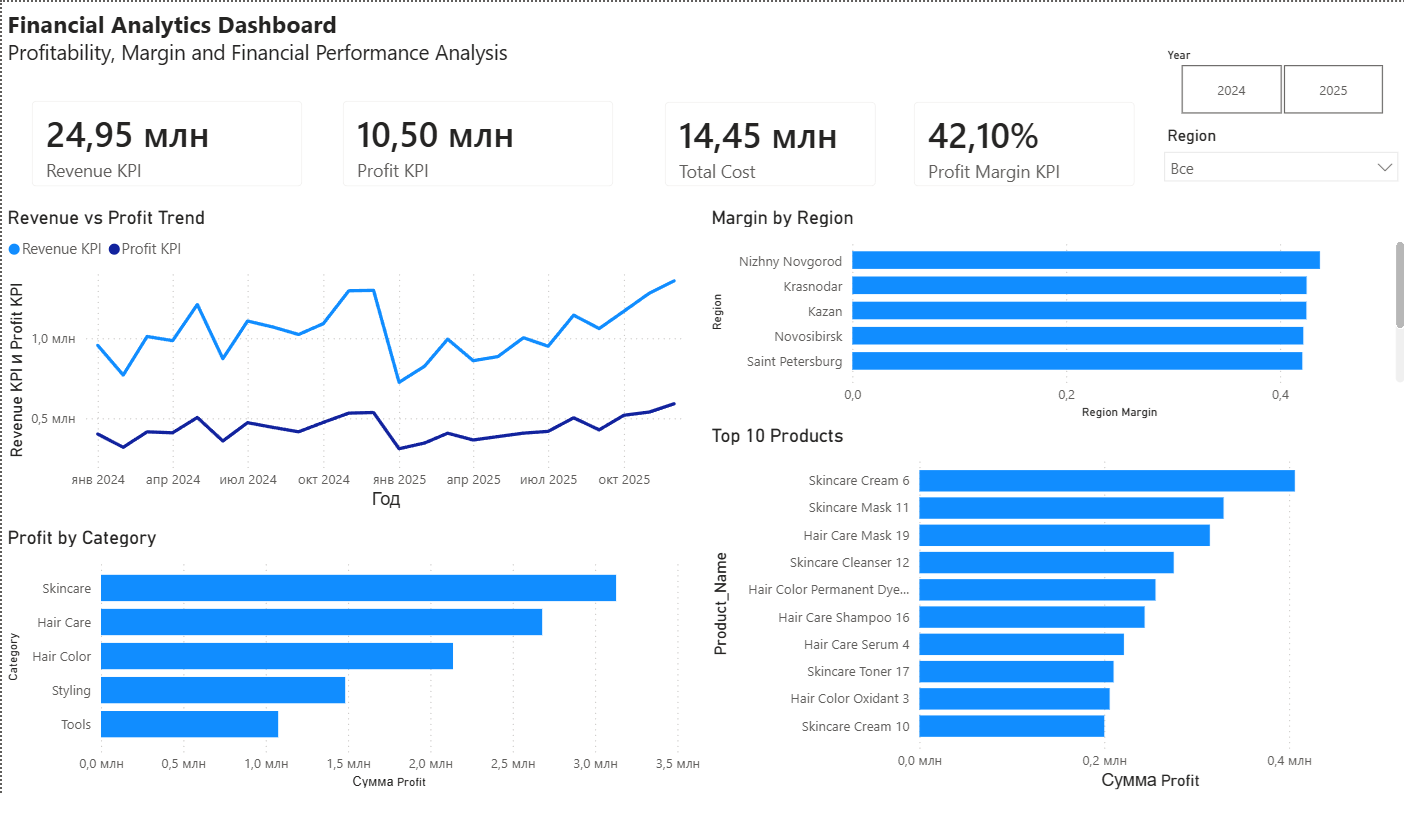

This screenshot's page, from the dashboard's own definition file:
{"tool":"powerbi","page":{"name":"Financial Analytics","canvas":[1280,720],"ordinal":2},"visuals":[{"type":"textbox","box":[10,0,280,280],"z":0},{"type":"textbox","box":[0,0,585.7,72.9],"z":1000},{"type":"cardVisual","fields":{"Data":["Sales.Revenue KPI"]},"box":[10,72.9,280,112.9],"z":2000},{"type":"cardVisual","fields":{"Data":["Sales.Profit KPI"]},"box":[292.9,72.9,280,112.9],"z":3000},{"type":"cardVisual","fields":{"Data":["Calendar.Total Cost"]},"box":[585,73.3,226.7,111.7],"z":4000},{"type":"cardVisual","fields":{"Data":["Sales.Profit Margin KPI"]},"box":[811.7,73.3,235,111.7],"z":5000},{"type":"lineChart","title":"Revenue vs Profit Trend","fields":{"Y":["Sales.Revenue KPI","Sales.Profit KPI"],"Category":["Calendar.Year_Month.Изменение.Иерархия дат.Год","Calendar.Year_Month.Изменение.Иерархия дат.Квартал","Calendar.Year_Month.Изменение.Иерархия дат.Месяц","Calendar.Year_Month.Изменение.Иерархия дат.День"]},"box":[0,185,640,280],"z":6000},{"type":"barChart","title":"Profit by Category","fields":{"Category":["Products.Category"],"Y":["Sum(Sales.Profit)"]},"box":[0,476.7,640,243.3],"z":7000},{"type":"barChart","title":"Margin by Region","fields":{"Category":["Sales.Region"],"Y":["Calendar.Region Margin"]},"box":[640,185,640,198.3],"z":8000},{"type":"barChart","title":"Top 10 Products","fields":{"Category":["Products.Product_Name"],"Y":["Sum(Sales.Profit)"]},"box":[640,383.3,640,336.7],"z":9000},{"type":"slicer","fields":{"Values":["Calendar.Year"]},"box":[1046.7,36.7,233.3,71.7],"z":9001},{"type":"slicer","fields":{"Values":["Sales.Region"]},"box":[1046.7,108.3,233.3,78.3],"z":9002}]}

Visuals, with their boxes on the page's 1280x720 design canvas (x1, y1, x2, y2). These are canvas units, not pixel positions in the 1404x828 screenshot, which may show the page scaled, cropped or inside an application window:
textbox: region(10, 0, 290, 280)
textbox: region(0, 0, 586, 73)
cardVisual - Sales.Revenue KPI: region(10, 73, 290, 186)
cardVisual - Sales.Profit KPI: region(293, 73, 573, 186)
cardVisual - Calendar.Total Cost: region(585, 73, 812, 185)
cardVisual - Sales.Profit Margin KPI: region(812, 73, 1047, 185)
"Revenue vs Profit Trend" lineChart: region(0, 185, 640, 465)
"Profit by Category" barChart: region(0, 477, 640, 720)
"Margin by Region" barChart: region(640, 185, 1280, 383)
"Top 10 Products" barChart: region(640, 383, 1280, 720)
slicer - Calendar.Year: region(1047, 37, 1280, 108)
slicer - Sales.Region: region(1047, 108, 1280, 187)
